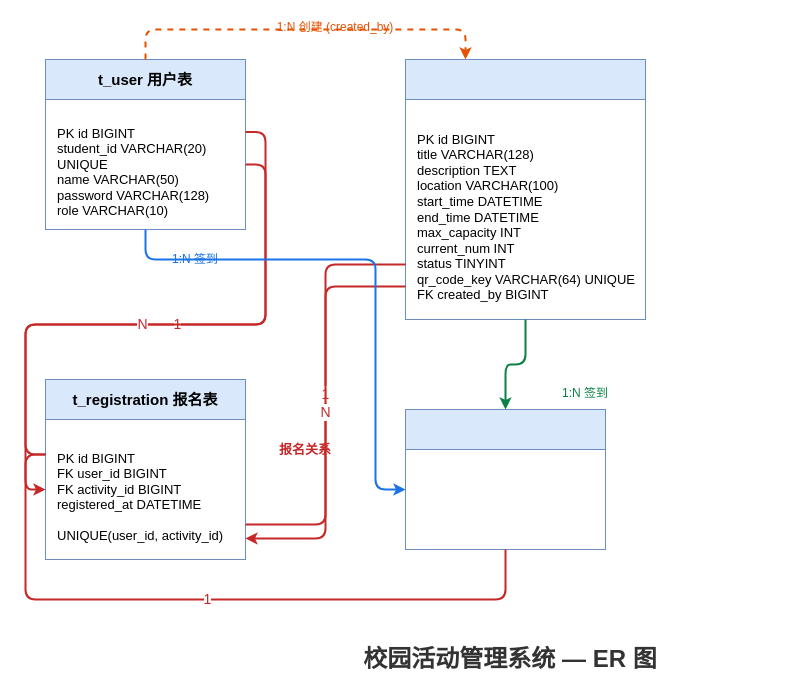
Some shapes in this 802 by 696 pixel diagram are drawn without their labels. Each missing label, with the centre of its shape:
PK id BIGINT FK user_id BIGINT FK activity_id BIGINT checkin_time DATETIME: the point at 505,499
t_activity 活动表: the point at 525,79
t_checkin 签到表: the point at 505,429
